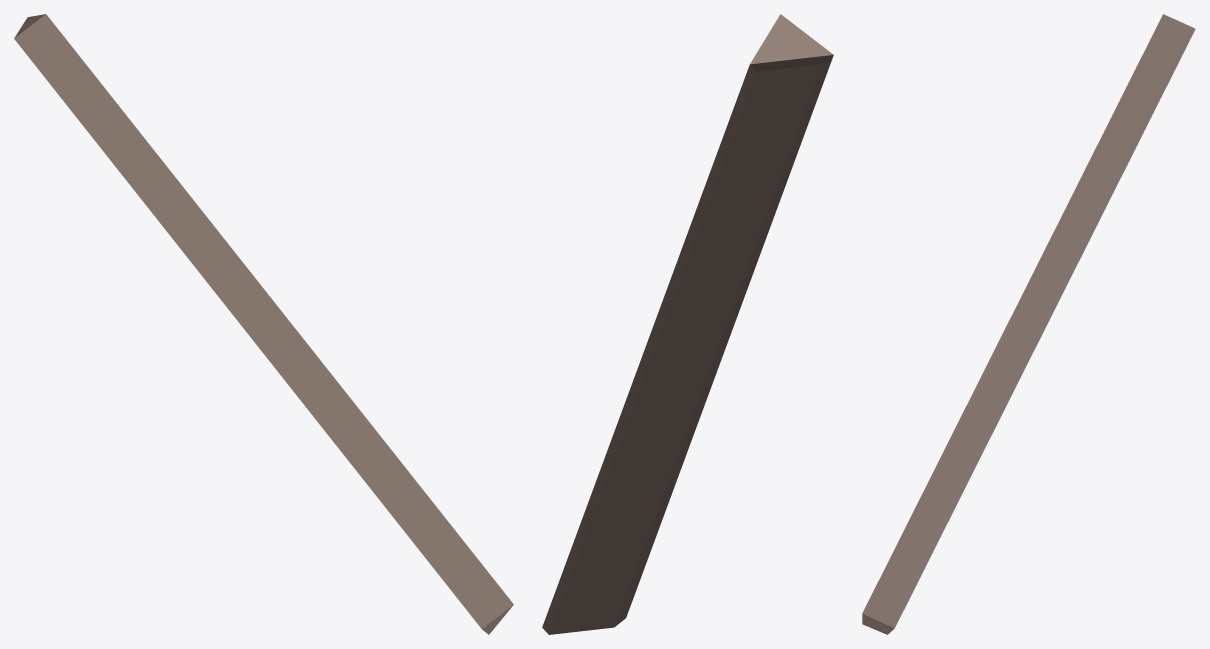
File: hip.glb
3 renders of one model, left to right at view 1: azimuth 30°, elevation 25°; view 2: azimuth 150°, elevation 25°; view 3: azimuth 270°, elevation 25°, orthographic. The views are drawn at different scales.
Visible parts, largest first — view 1: hip_ridge; view 2: hip_ridge; view 3: hip_ridge.
Boxes of the visible parts, x1,y1,x2,y2 form: hip_ridge: (14, 14, 513, 634); hip_ridge: (542, 14, 833, 634); hip_ridge: (862, 14, 1195, 634).
Size of the model in its own units: 0.92 by 1.5 by 0.92.
